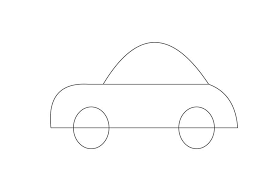car: (34, 35, 250, 155)
